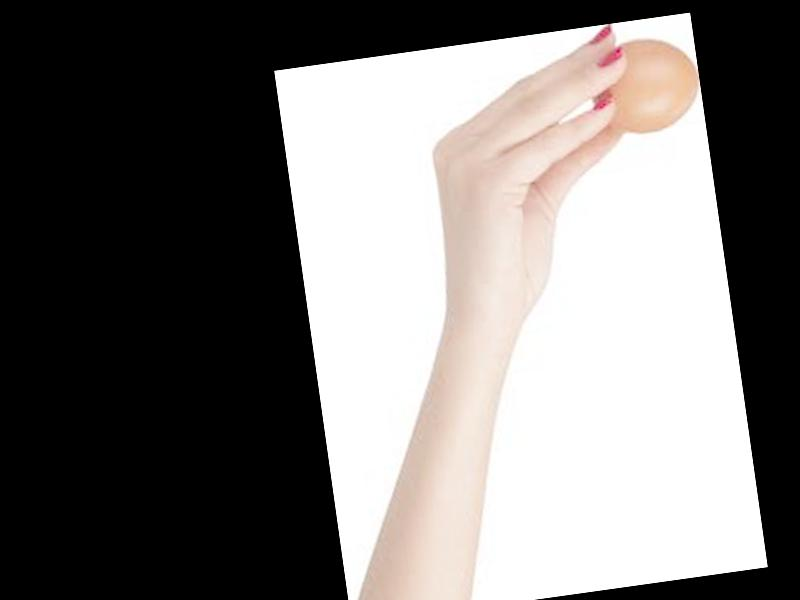Eggs: (588, 31, 703, 139)
